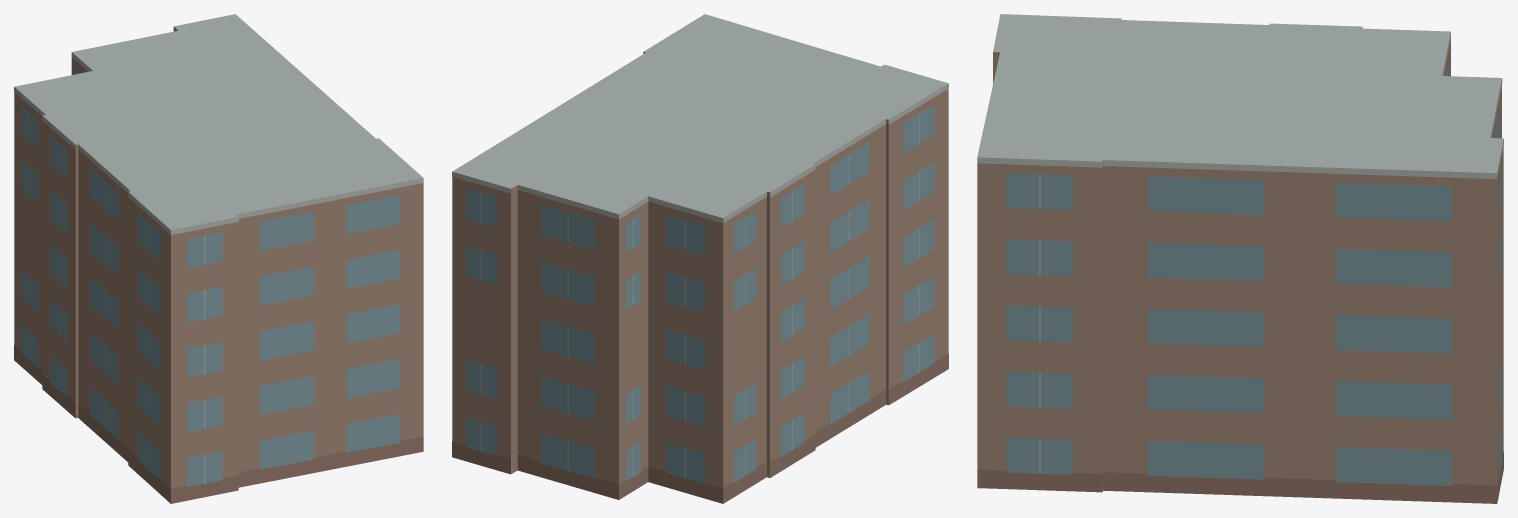
Rendered from survey-upis-32601041.glb.
3 views of the same model, side by side, from view 1: azimuth 30°, elevation 25°; view 2: azimuth 150°, elevation 25°; view 3: azimuth 270°, elevation 25° (orthographic). The views are drawn at different scales.
Visible parts, largest first — view 1: survey-upis-32601041.tmp; view 2: survey-upis-32601041.tmp; view 3: survey-upis-32601041.tmp.
Boxes of the visible parts, x1,y1,x2,y2 form: survey-upis-32601041.tmp: (14, 14, 423, 503); survey-upis-32601041.tmp: (452, 14, 948, 503); survey-upis-32601041.tmp: (977, 14, 1503, 503).
Size of the model in its own units: 14.06 by 13.6 by 19.64.
